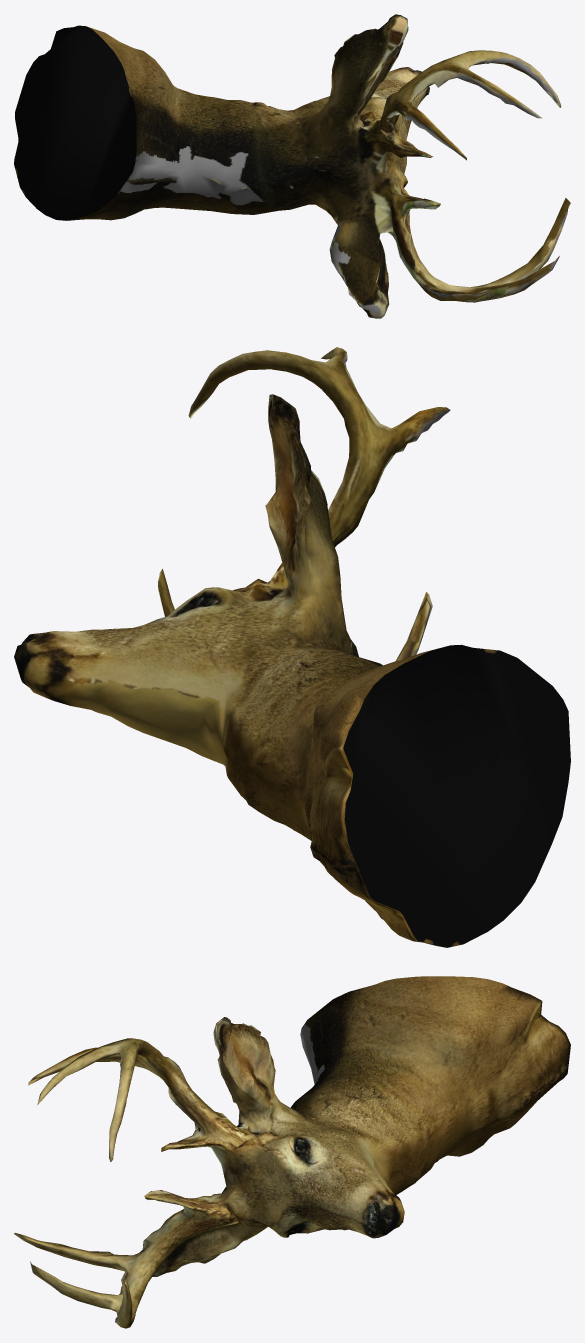
The model's file is deerhead.obj.
3 renders of one model, top to bottom at view 1: azimuth 30°, elevation 25°; view 2: azimuth 150°, elevation 25°; view 3: azimuth 270°, elevation 25°, orthographic. The views are drawn at different scales.
Size of the model in its own units: 8.29 by 5.6 by 9.9.
1 material, 1 textured.
